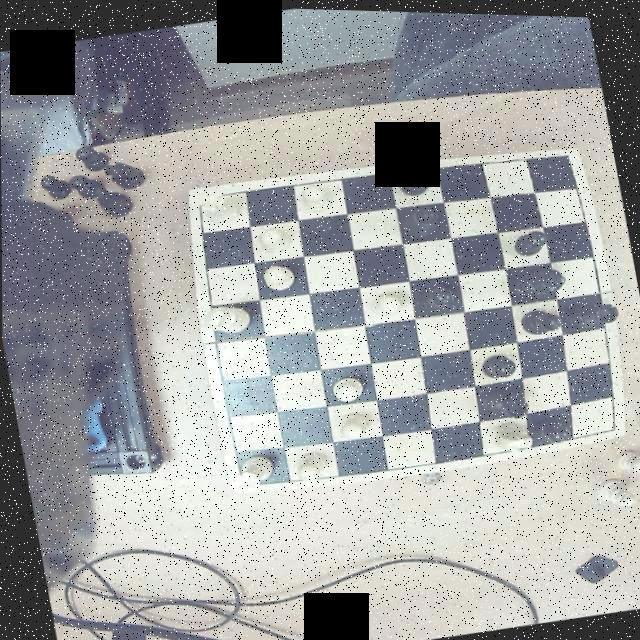chess-table-corners: (230, 466, 258, 492), (186, 187, 212, 213), (550, 142, 580, 164), (600, 410, 626, 433)
